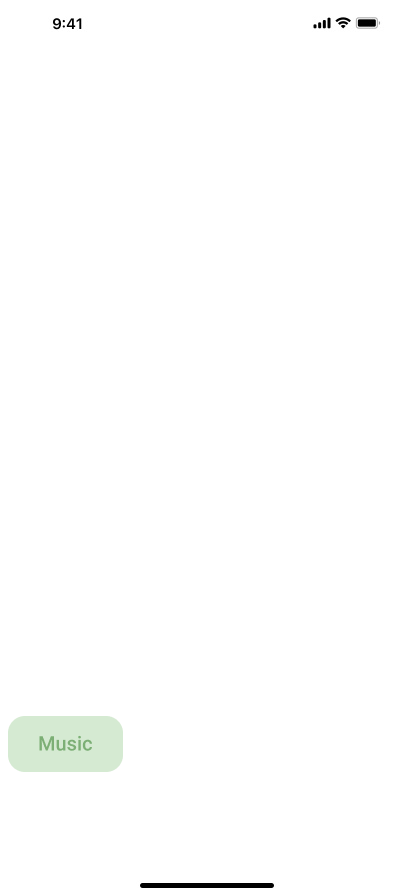Buttons: (8, 716, 131, 772)
Home Indicator: (0, 862, 414, 896)
Status Bar: (0, 0, 414, 44)
